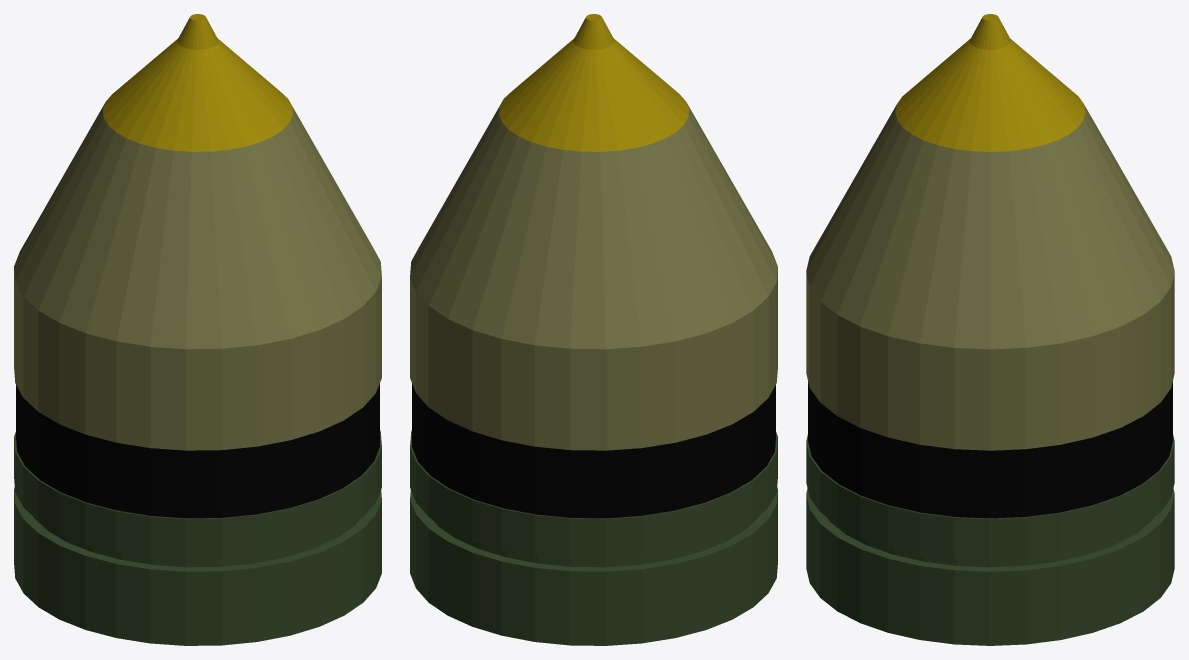
File: bullet.fbx
3 views of the same model, side by side, from view 1: azimuth 30°, elevation 25°; view 2: azimuth 150°, elevation 25°; view 3: azimuth 270°, elevation 25° (orthographic).
Parts seen in each view (by area): view 1: Cylinder.004, Cylinder, Cylinder.003, Cylinder.002, Cylinder.001; view 2: Cylinder.004, Cylinder, Cylinder.003, Cylinder.002, Cylinder.001; view 3: Cylinder.004, Cylinder, Cylinder.003, Cylinder.002, Cylinder.001.
Part boxes in pixels (left/top/right/bottom): Cylinder.004: left=14, top=14, right=381, bottom=450; Cylinder: left=14, top=487, right=381, bottom=645; Cylinder.003: left=16, top=383, right=379, bottom=518; Cylinder.002: left=14, top=430, right=381, bottom=559; Cylinder.001: left=33, top=516, right=359, bottom=567; Cylinder.004: left=410, top=14, right=777, bottom=450; Cylinder: left=410, top=487, right=777, bottom=645; Cylinder.003: left=412, top=383, right=775, bottom=518; Cylinder.002: left=410, top=430, right=777, bottom=559; Cylinder.001: left=432, top=516, right=758, bottom=567; Cylinder.004: left=806, top=14, right=1174, bottom=450; Cylinder: left=806, top=488, right=1174, bottom=645; Cylinder.003: left=808, top=381, right=1172, bottom=518; Cylinder.002: left=806, top=434, right=1174, bottom=559; Cylinder.001: left=827, top=517, right=1153, bottom=567.
Size of the model in its own units: 200 by 330 by 200.
